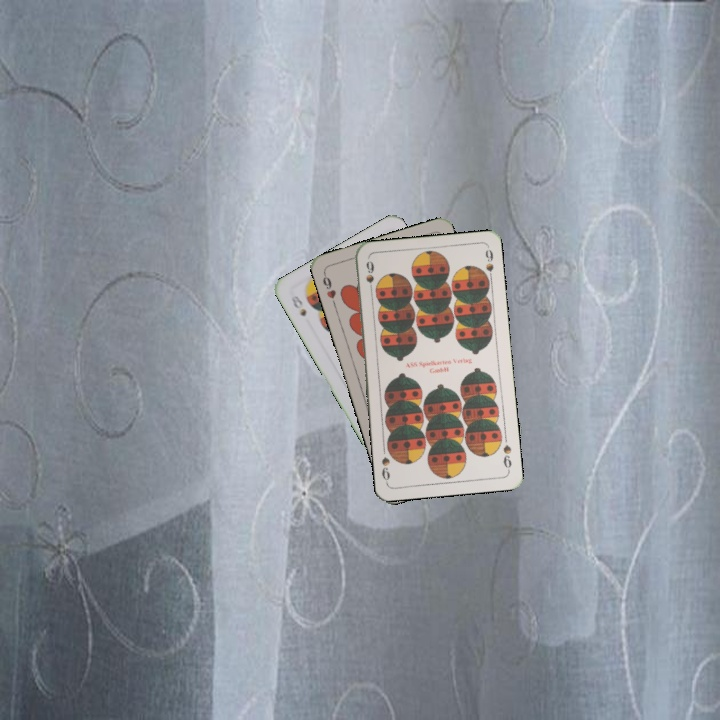H9: (319, 269, 339, 309)
S8: (287, 291, 309, 319)
S9: (362, 256, 377, 297), (499, 441, 514, 474)
